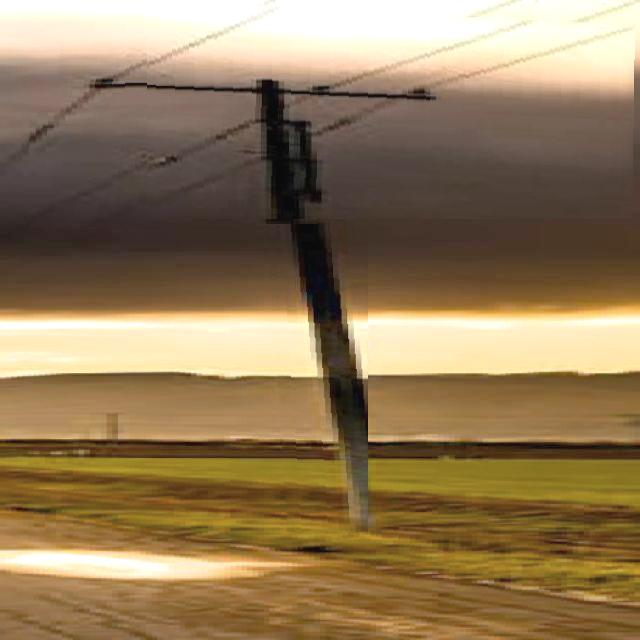crossarm: (98, 81, 438, 107)
pole: (257, 73, 368, 532)
wire: (29, 0, 525, 228), (147, 19, 635, 219), (3, 0, 282, 170)
